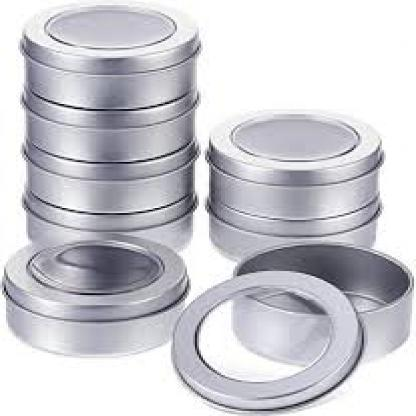METAL: (171, 268, 364, 411), (0, 232, 187, 349), (231, 242, 410, 363), (18, 2, 199, 107), (207, 108, 382, 216), (22, 82, 193, 160), (207, 191, 380, 263), (20, 140, 195, 211), (20, 191, 191, 251)
